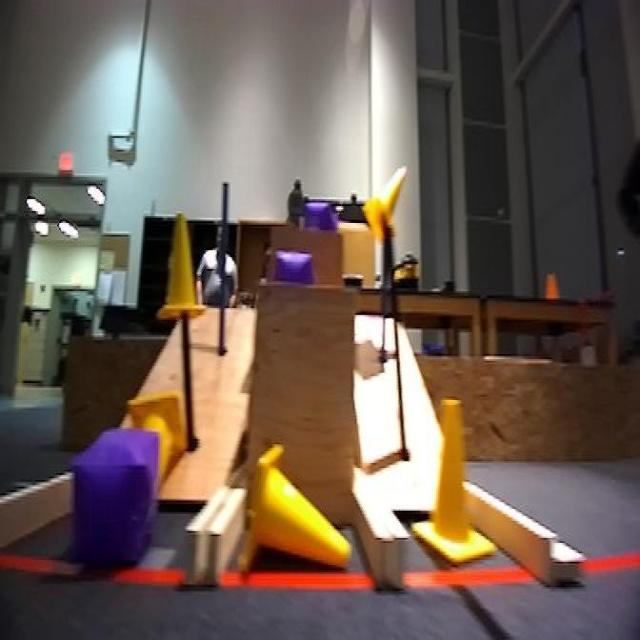frc_cone: (250, 444, 366, 570), (414, 396, 496, 564), (168, 220, 218, 328), (128, 392, 184, 482), (366, 154, 411, 244)
frc_cube: (65, 427, 151, 570), (298, 196, 332, 247), (275, 247, 309, 289)
